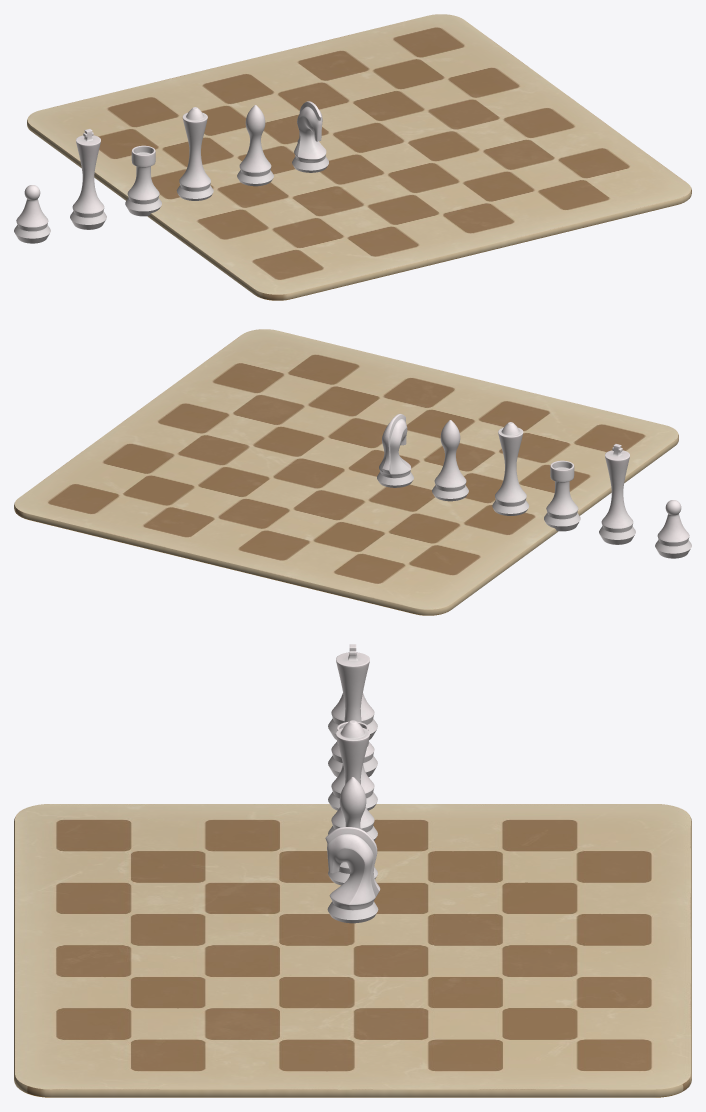
The model's file is OBoard2.glb.
3 views of the same model, one above another, from view 1: azimuth 30°, elevation 25°; view 2: azimuth 150°, elevation 25°; view 3: azimuth 270°, elevation 25° (orthographic). The views are drawn at different scales.
Parts seen in each view (by area): view 1: Board, King, Queen, Knight, Rook, Bishop, Pawn; view 2: Board, King, Queen, Knight, Rook, Bishop, Pawn; view 3: Board, Knight, King, Queen, Bishop, Rook, Pawn.
Part boxes in pixels (box(x1,y1,x2,y2)): Board: box(27, 14, 691, 300); King: box(70, 129, 106, 229); Queen: box(176, 107, 213, 200); Knight: box(292, 101, 328, 172); Rook: box(125, 145, 161, 216); Bishop: box(237, 105, 273, 186); Pawn: box(14, 185, 50, 243); Board: box(14, 329, 678, 615); King: box(599, 444, 635, 544); Queen: box(492, 422, 529, 515); Knight: box(377, 413, 413, 487); Rook: box(544, 460, 580, 531); Bishop: box(432, 420, 468, 501); Pawn: box(655, 500, 691, 558); Board: box(14, 804, 691, 1097); Knight: box(325, 827, 380, 923); King: box(328, 644, 377, 776); Queen: box(328, 720, 377, 840); Bishop: box(328, 777, 377, 885); Rook: box(328, 721, 377, 810); Pawn: box(328, 693, 377, 739).
Size of the model in its own units: 6.47 by 1.17 by 5.02.
2 materials, 2 textured.
